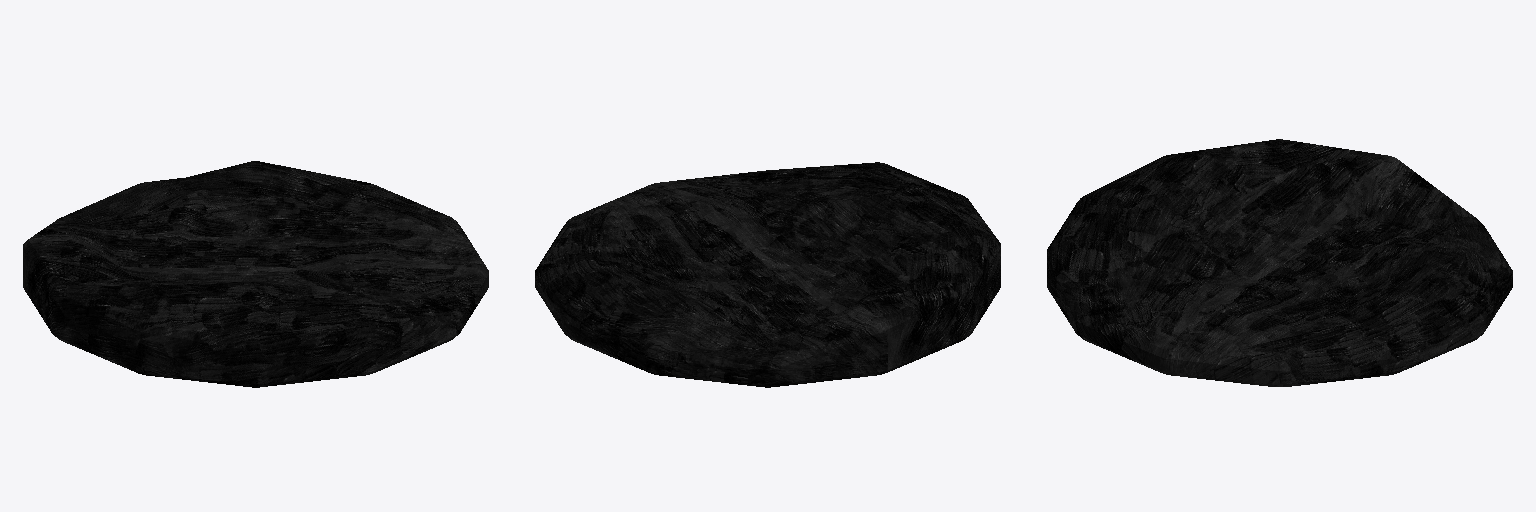
The picture shows the model from 3 angles: view 1: azimuth 30°, elevation 25°; view 2: azimuth 150°, elevation 25°; view 3: azimuth 270°, elevation 25°; orthographic projection.
Parts seen in each view (by area): view 1: Object_102; view 2: Object_102; view 3: Object_102.
Boxes of the visible parts, x1,y1,x2,y2 form: Object_102: [23, 161, 488, 387]; Object_102: [535, 162, 1000, 387]; Object_102: [1047, 139, 1512, 386].
Size of the model in its own units: 39.04 by 6.58 by 39.05.
1 materials, 1 textured.